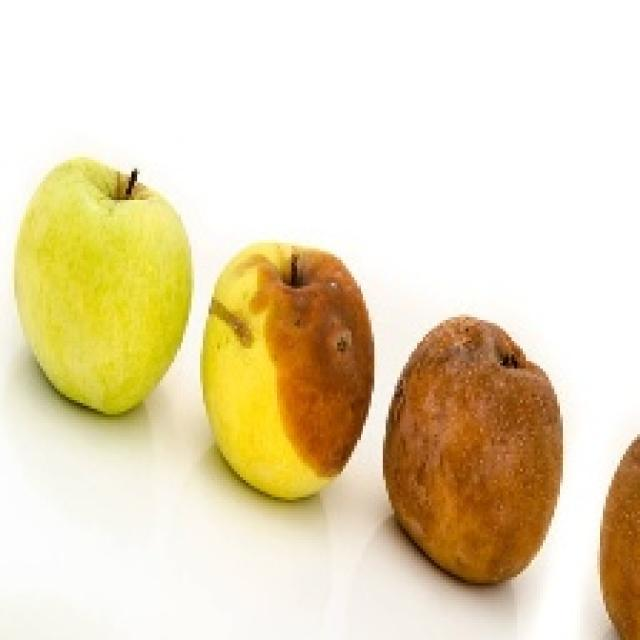50-_ripeness: (16, 164, 186, 411)
rotten_apple: (384, 318, 558, 586), (202, 244, 370, 499)
